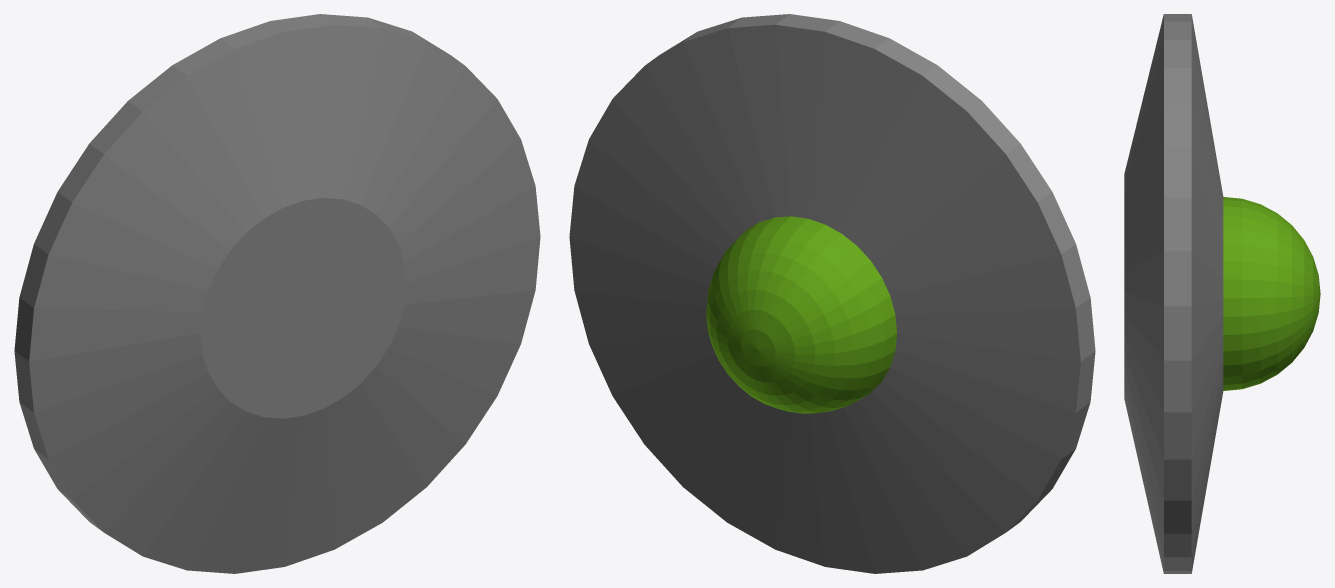
Rendered from Ovni.dae.
The picture shows the model from 3 angles, left to right: view 1: azimuth 30°, elevation 25°; view 2: azimuth 150°, elevation 25°; view 3: azimuth 270°, elevation 25°; orthographic projection. The views are drawn at different scales.
Parts seen in each view (by area): view 1: Glass; view 2: Glass; view 3: Glass.
Part boxes in pixels (x1,y1,x2,y2): Glass: [14, 14, 540, 573]; Glass: [569, 14, 1095, 573]; Glass: [1124, 14, 1320, 573].
Size of the model in its own units: 5.77 by 2.02 by 5.77.
Materials: 2 (2 with a texture image).
